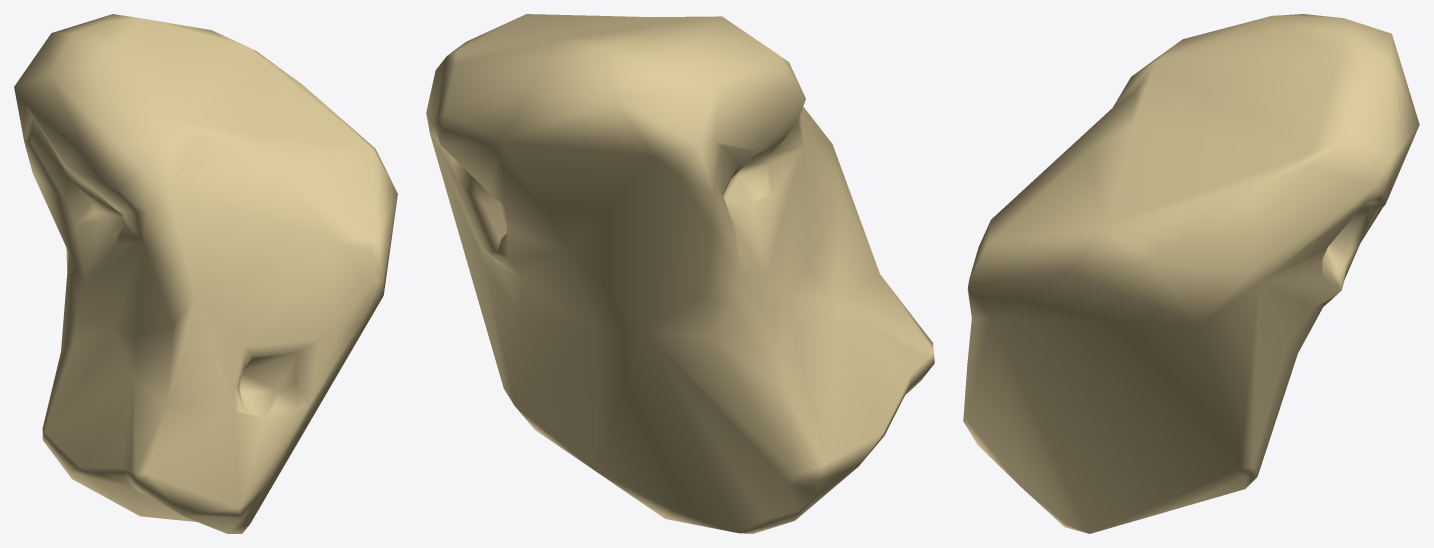
3 renders of one model, left to right at view 1: azimuth 30°, elevation 25°; view 2: azimuth 150°, elevation 25°; view 3: azimuth 270°, elevation 25°, orthographic. The views are drawn at different scales.
Visible parts, largest first — view 1: 左侧小多角骨; view 2: 左侧小多角骨; view 3: 左侧小多角骨.
Boxes of the visible parts, box(x1,y1,x2,y2) form: 左侧小多角骨: box(14, 14, 397, 533); 左侧小多角骨: box(426, 14, 934, 533); 左侧小多角骨: box(963, 14, 1419, 533).
Bounding box in the file's own units: 0.0173 × 0.0229 × 0.0194.
